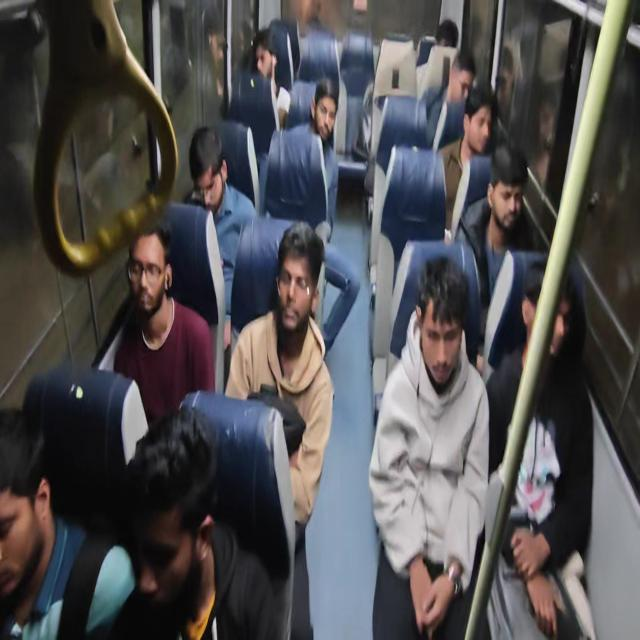person: (368, 255, 490, 638), (484, 262, 594, 638), (108, 408, 285, 638), (224, 220, 334, 539), (0, 405, 136, 639), (22, 362, 149, 530), (112, 222, 215, 426), (185, 126, 258, 316), (455, 142, 533, 308), (437, 80, 499, 238), (290, 77, 339, 237), (430, 50, 476, 146), (251, 28, 291, 131), (416, 18, 459, 98), (527, 84, 558, 190), (444, 50, 476, 104), (434, 18, 459, 48)
